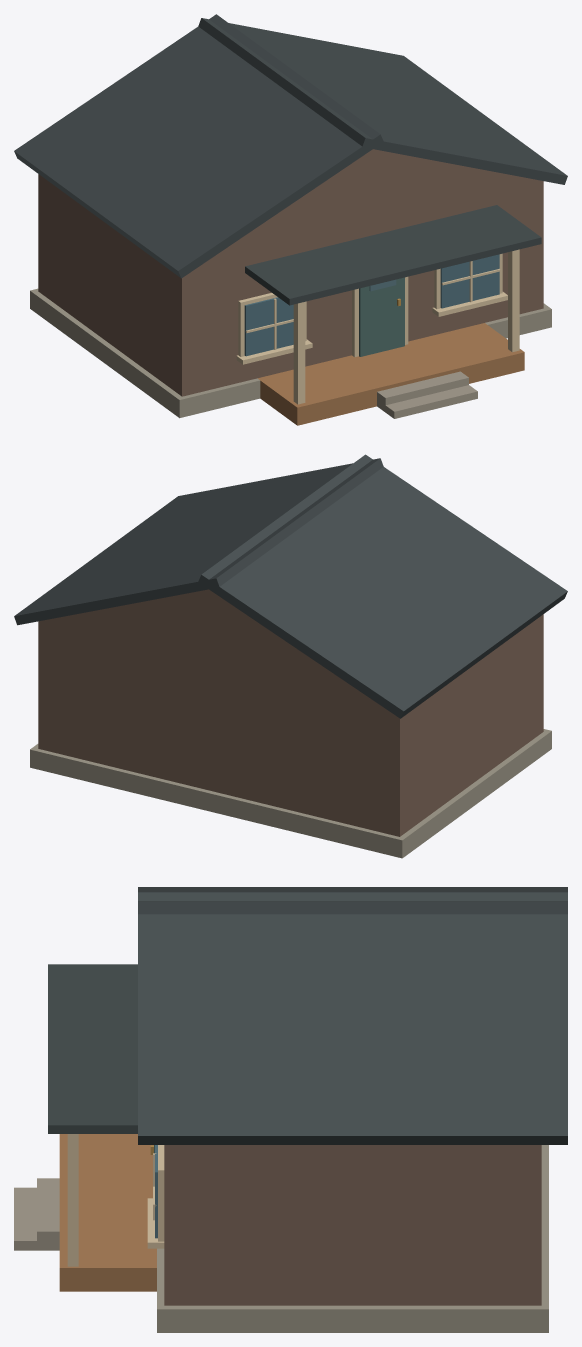
Rendered from cedar_roadside_bungalow.glb.
3 views of the same model, one above another, from view 1: azimuth 30°, elevation 25°; view 2: azimuth 150°, elevation 25°; view 3: azimuth 270°, elevation 25° (orthographic). The views are drawn at different scales.
Parts seen in each view (by area): view 1: Sloping roof.002, Cedar box, Sloping roof.003, Porch roof, Porch deck, Gable walls.001, Concrete skirt, Door.001, Blue glazing.003, Blue glazing.004, Front step.003, Front step.004 (+6 smaller); view 2: Cedar box, Sloping roof.002, Sloping roof.003, Concrete skirt, Gable walls.001; view 3: Sloping roof.003, Cedar box, Porch roof, Porch deck, Concrete skirt, Sloping roof.002, Front step.003, Porch post.001, Front step.004, Window surround.004.
Part boxes in pixels (bbox=[...]): Sloping roof.002: bbox=[14, 14, 383, 278]; Cedar box: bbox=[38, 174, 543, 396]; Sloping roof.003: bbox=[198, 18, 567, 184]; Porch roof: bbox=[245, 205, 541, 305]; Porch deck: bbox=[258, 323, 524, 425]; Gable walls.001: bbox=[216, 149, 530, 255]; Concrete skirt: bbox=[30, 288, 551, 418]; Door.001: bbox=[359, 277, 404, 356]; Blue glazing.003: bbox=[244, 297, 293, 356]; Blue glazing.004: bbox=[440, 254, 499, 308]; Front step.003: bbox=[377, 371, 468, 412]; Front step.004: bbox=[385, 385, 477, 418]; Cedar box: bbox=[38, 614, 543, 836]; Sloping roof.002: bbox=[198, 454, 567, 718]; Sloping roof.003: bbox=[14, 458, 383, 625]; Concrete skirt: bbox=[30, 729, 551, 858]; Gable walls.001: bbox=[51, 589, 365, 695]; Sloping roof.003: bbox=[138, 892, 567, 1144]; Cedar box: bbox=[164, 1145, 541, 1305]; Porch roof: bbox=[48, 964, 137, 1133]; Porch deck: bbox=[59, 1134, 156, 1291]; Concrete skirt: bbox=[157, 1145, 548, 1332]; Sloping roof.002: bbox=[138, 887, 567, 914]; Front step.003: bbox=[37, 1178, 59, 1250]; Porch post.001: bbox=[67, 1134, 78, 1266]; Front step.004: bbox=[14, 1187, 36, 1250]; Window surround.004: bbox=[158, 1145, 164, 1241].
Bounding box in the file's own units: 8.68 × 5.14 × 8.16.
